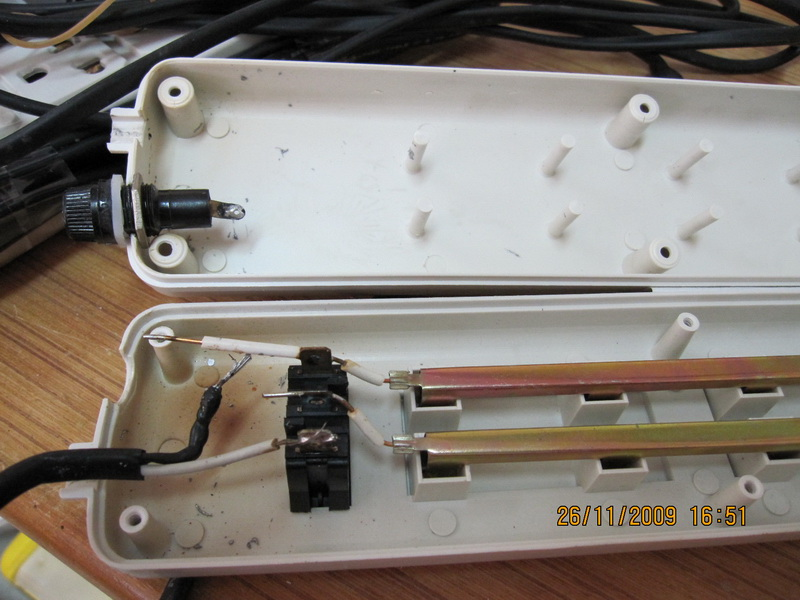Three_eye_plug: (80, 299, 800, 560)
